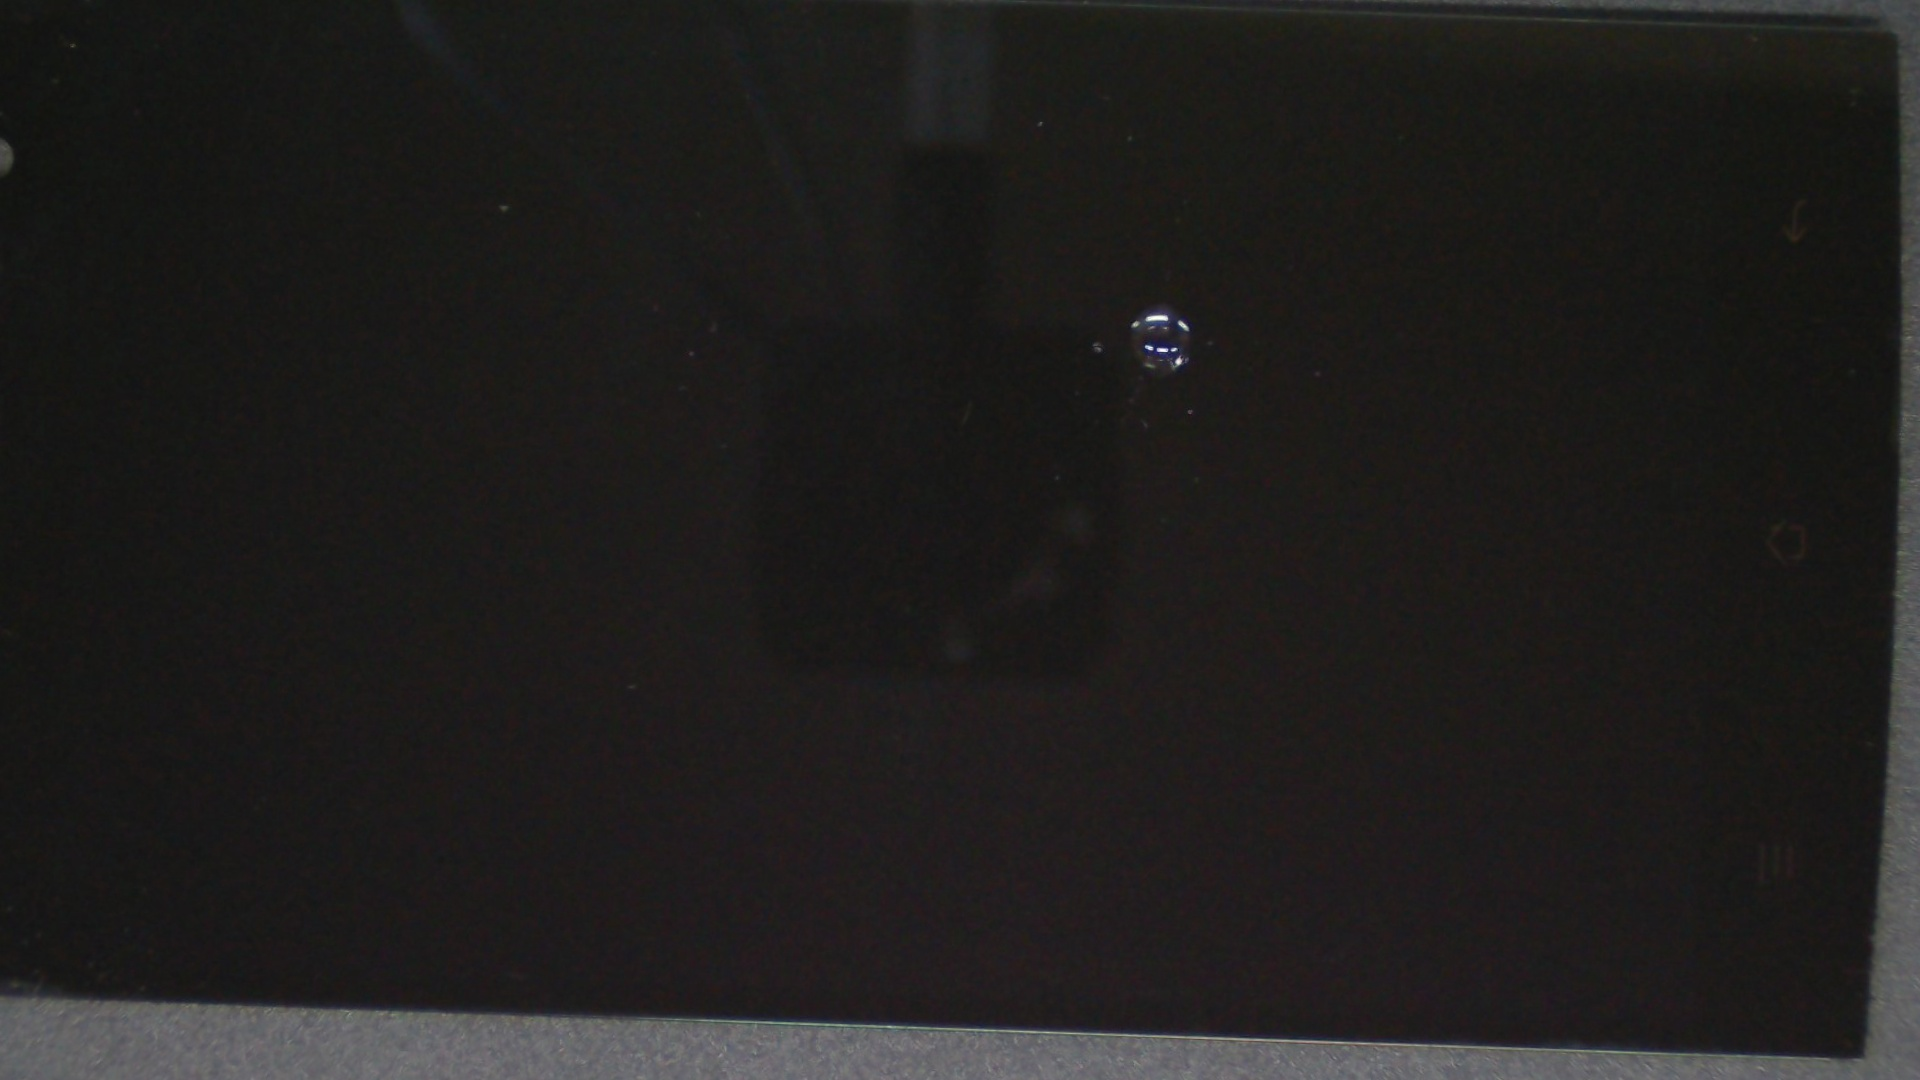oil: (492, 79, 1825, 527)
